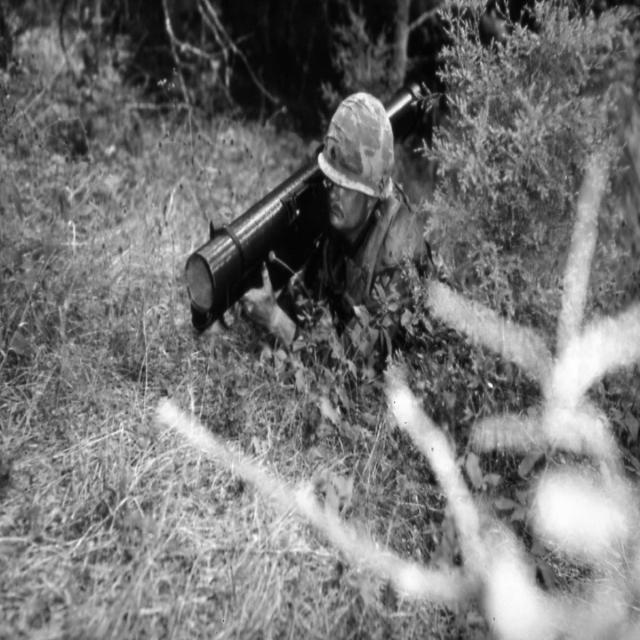bazooka: (171, 43, 459, 354)
